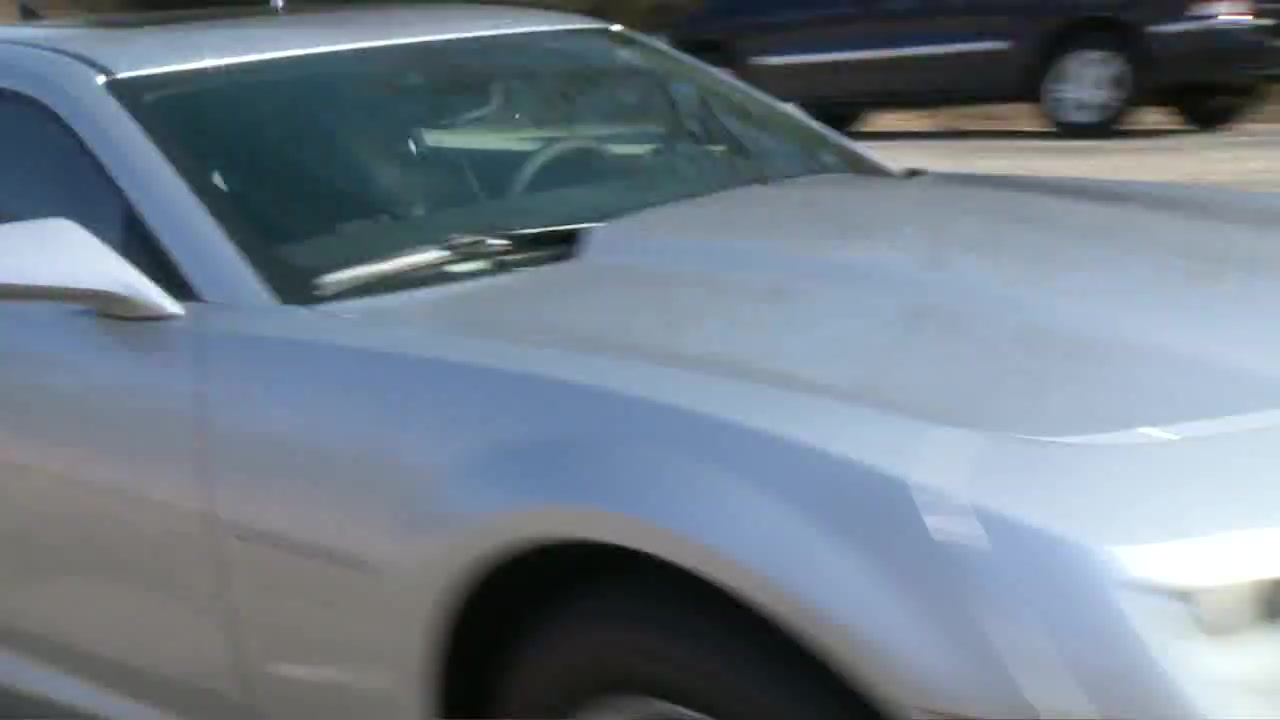car: (1, 6, 1280, 720)
